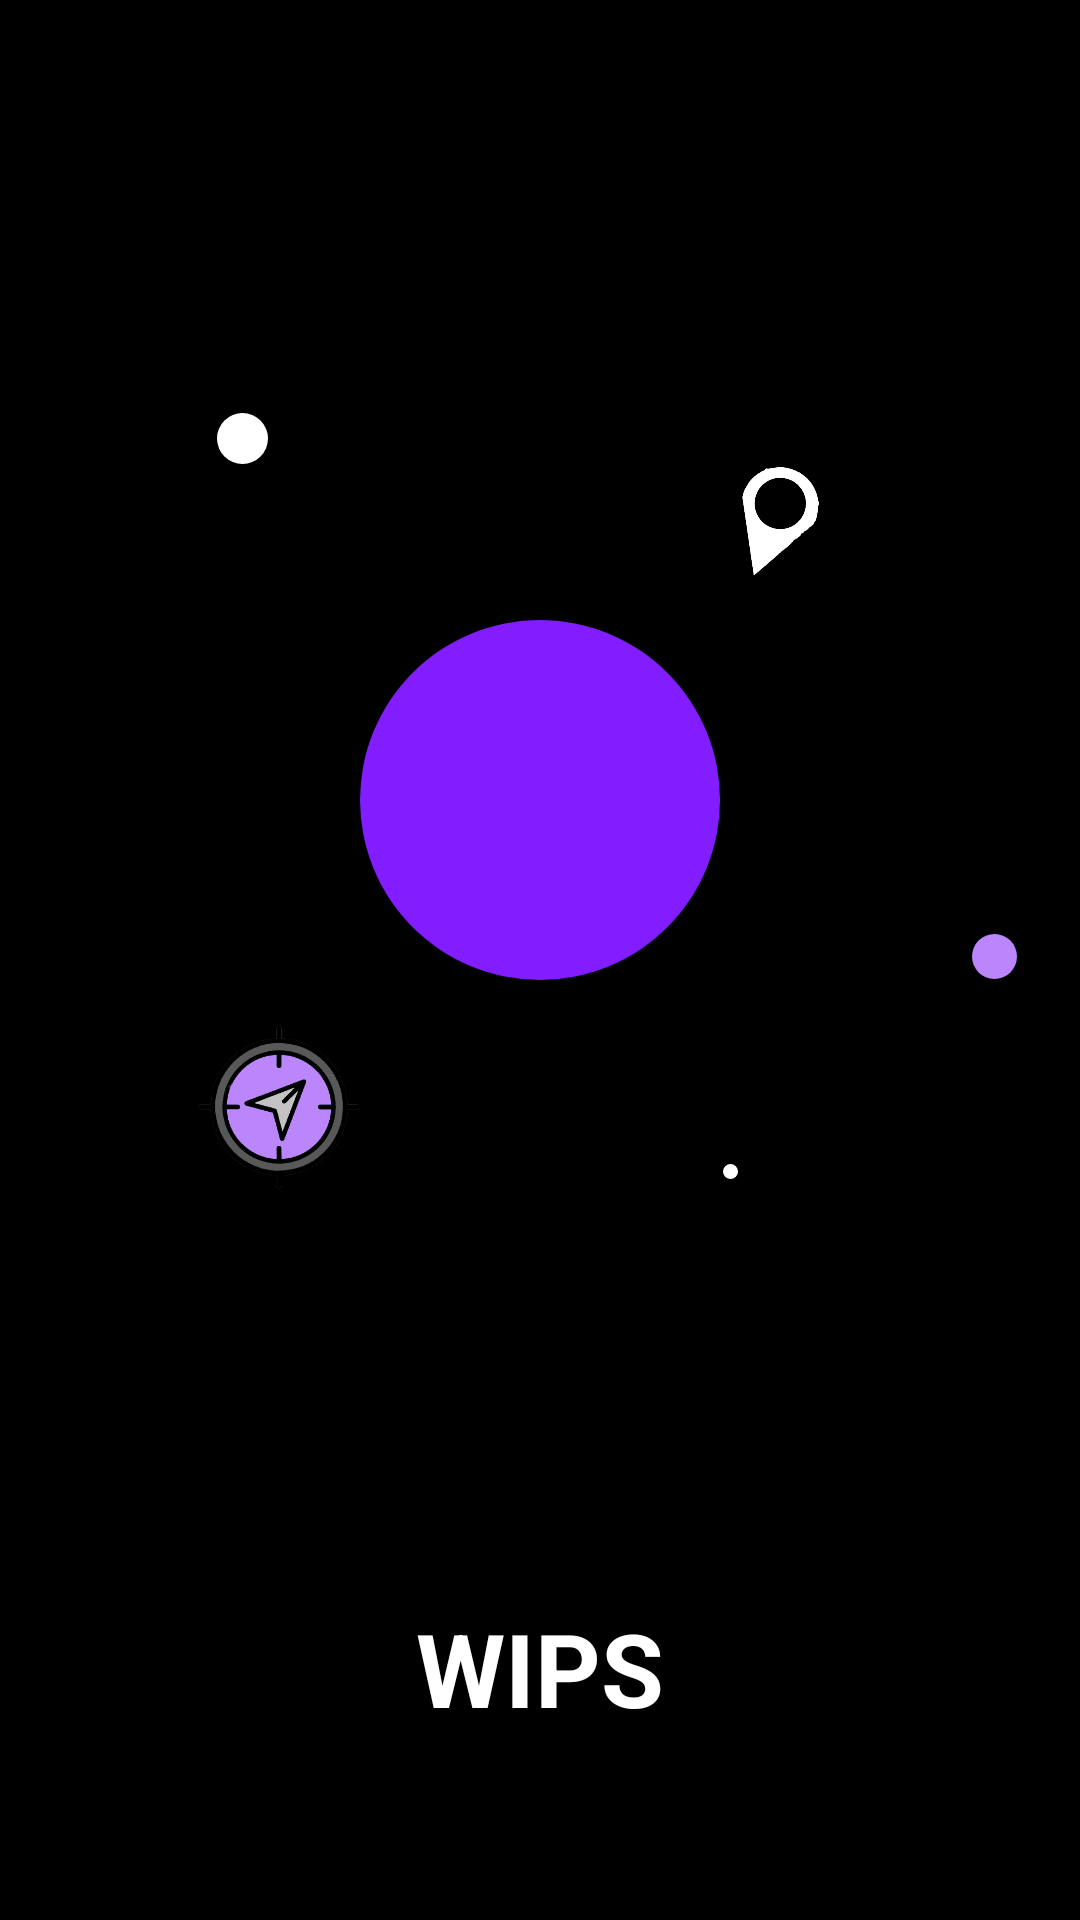

Icons on this 1080px×1920px Android screen, each with the point to tap as (x,y):
nav: (285,1099)
